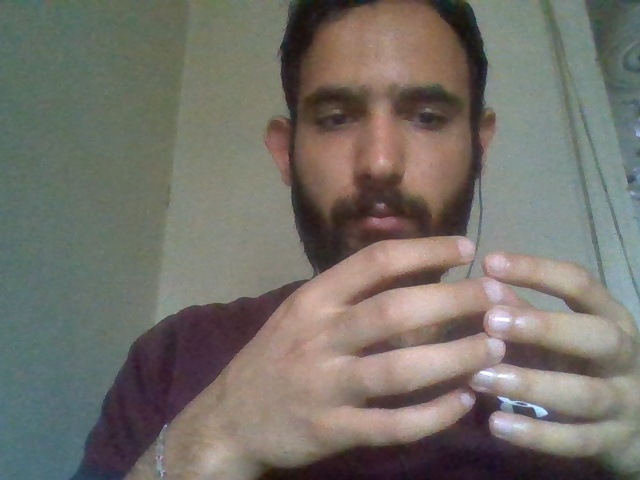Story: (244, 210, 640, 480)
